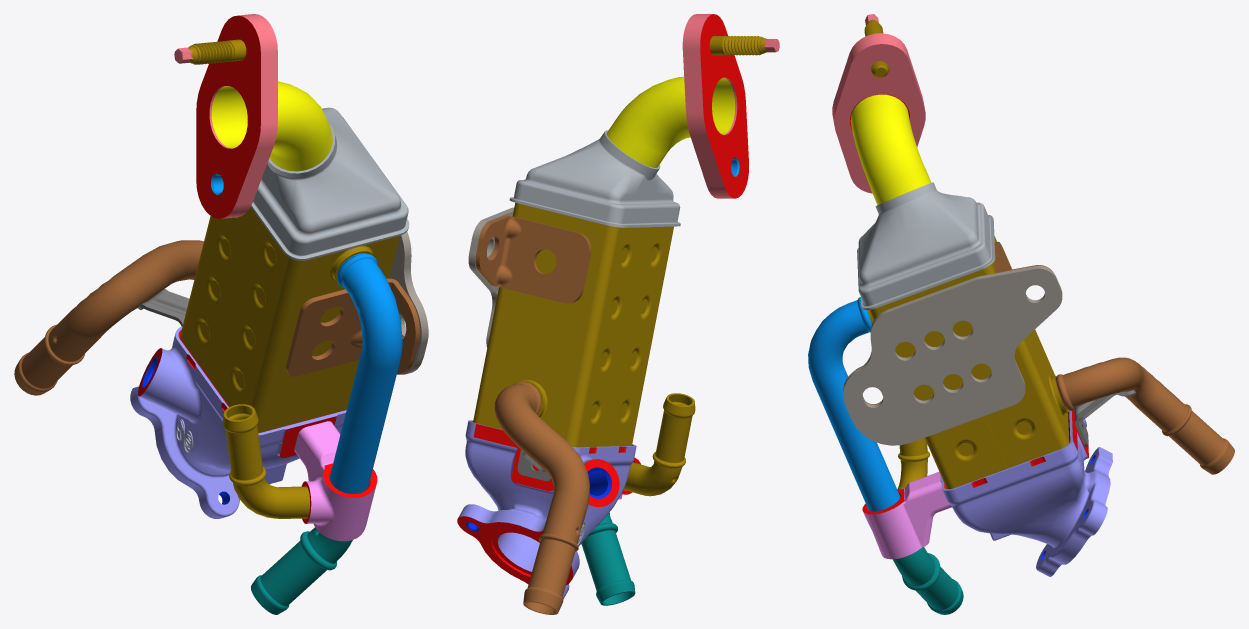
The model's file is egr_cooler_assy.glb.
3 views of the same model, side by side, from view 1: azimuth 30°, elevation 25°; view 2: azimuth 150°, elevation 25°; view 3: azimuth 270°, elevation 25° (orthographic). The views are drawn at different scales.
Visible parts, largest first — view 1: 28460-2M800_BODY, 28460-2M800_INLET_TANK_A, 28460-2M800_OUTLET_FLANGE, 28460-2M800_INLET_FLANGE, 28460-2M800_COOLANT_INLET_A, 28460-2M800_COOLANT_OUTLET, 28460-2M800_STAY_BRACKET, 28460-2M800_INLET_PIPE, 28460-2M800_COOLANT_ADAPTOR, 28460-2M800_COOLANT_NIPPLE, 28460-2M800_COOLANT_INLET_B, 28460-2M800_BRACKET (+2 smaller); view 2: 28460-2M800_BODY, 28460-2M800_OUTLET_FLANGE, 28460-2M800_INLET_TANK_A, 28460-2M800_COOLANT_OUTLET, 28460-2M800_INLET_FLANGE, 28460-2M800_STAT_BRACKET_A, 28460-2M800_INLET_PIPE, 28460-2M800_COOLANT_NIPPLE, 28460-2M800_COOLANT_INLET_B, 28460-2M800_STUD_BOLT, 28460-2M800_BRACKET, 28460-2M800_COOLANT_BRACKET; view 3: 28460-2M800_BRACKET, 28460-2M800_OUTLET_FLANGE, 28460-2M800_BODY, 28460-2M800_INLET_TANK_A, 28460-2M800_COOLANT_INLET_A, 28460-2M800_COOLANT_OUTLET, 28460-2M800_INLET_FLANGE, 28460-2M800_INLET_PIPE, 28460-2M800_COOLANT_ADAPTOR, 28460-2M800_COOLANT_INLET_B, 28460-2M800_COOLANT_NIPPLE, 28460-2M800_COOLANT_BRACKET (+1 smaller).
Part boxes in pixels (x1,y1,x2,y2): 28460-2M800_BODY: (180,207,399,432); 28460-2M800_INLET_TANK_A: (251,107,409,260); 28460-2M800_OUTLET_FLANGE: (130,326,346,518); 28460-2M800_INLET_FLANGE: (196,14,277,218); 28460-2M800_COOLANT_INLET_A: (330,253,402,493); 28460-2M800_COOLANT_OUTLET: (14,240,203,395); 28460-2M800_STAY_BRACKET: (285,278,420,376); 28460-2M800_INLET_PIPE: (211,81,332,171); 28460-2M800_COOLANT_ADAPTOR: (294,421,377,541); 28460-2M800_COOLANT_NIPPLE: (222,404,309,518); 28460-2M800_COOLANT_INLET_B: (251,527,352,614); 28460-2M800_BRACKET: (389,231,428,374); 28460-2M800_BODY: (473,202,673,447); 28460-2M800_OUTLET_FLANGE: (457,420,636,599); 28460-2M800_INLET_TANK_A: (509,130,680,227); 28460-2M800_COOLANT_OUTLET: (494,381,589,614); 28460-2M800_INLET_FLANGE: (682,14,748,198); 28460-2M800_STAT_BRACKET_A: (475,215,591,303); 28460-2M800_INLET_PIPE: (606,76,735,167); 28460-2M800_COOLANT_NIPPLE: (623,393,695,496); 28460-2M800_COOLANT_INLET_B: (581,512,635,605); 28460-2M800_STUD_BOLT: (709,36,779,55); 28460-2M800_BRACKET: (468,207,513,347); 28460-2M800_COOLANT_BRACKET: (517,449,551,480); 28460-2M800_BRACKET: (843,265,1062,445); 28460-2M800_OUTLET_FLANGE: (940,409,1112,576); 28460-2M800_BODY: (867,236,1069,489); 28460-2M800_INLET_TANK_A: (857,182,995,310); 28460-2M800_COOLANT_INLET_A: (808,297,900,511); 28460-2M800_COOLANT_OUTLET: (1055,357,1234,474); 28460-2M800_INLET_FLANGE: (832,33,925,193); 28460-2M800_INLET_PIPE: (850,94,931,205); 28460-2M800_COOLANT_ADAPTOR: (862,472,951,559); 28460-2M800_COOLANT_INLET_B: (893,547,963,614); 28460-2M800_COOLANT_NIPPLE: (897,438,929,489); 28460-2M800_COOLANT_BRACKET: (1074,390,1136,446).
Size of the model in its own units: 0.1017 by 0.2638 by 0.185.
